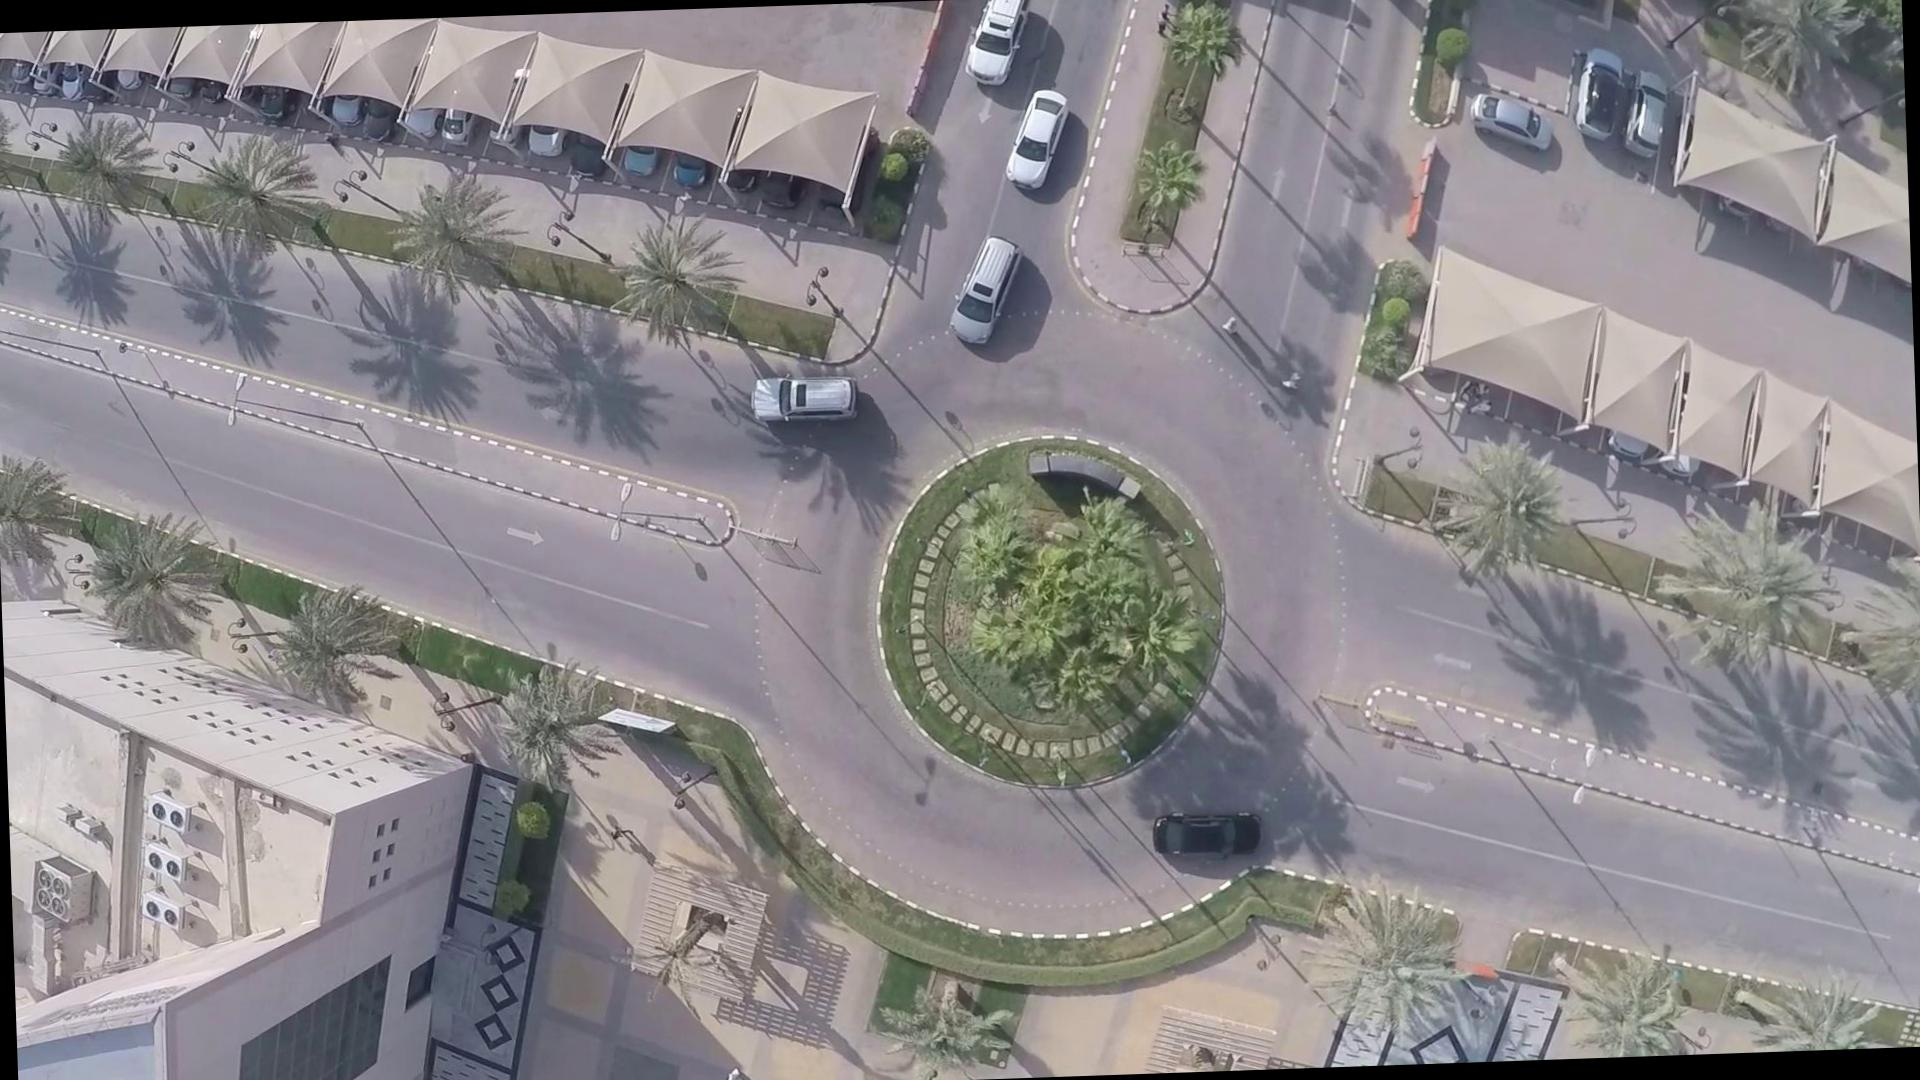vehicle: (942, 239, 1025, 342), (1145, 808, 1283, 865), (740, 376, 876, 433), (1000, 95, 1077, 194), (1469, 91, 1543, 154), (1581, 49, 1618, 140), (1622, 74, 1658, 164), (971, 0, 1009, 76)
